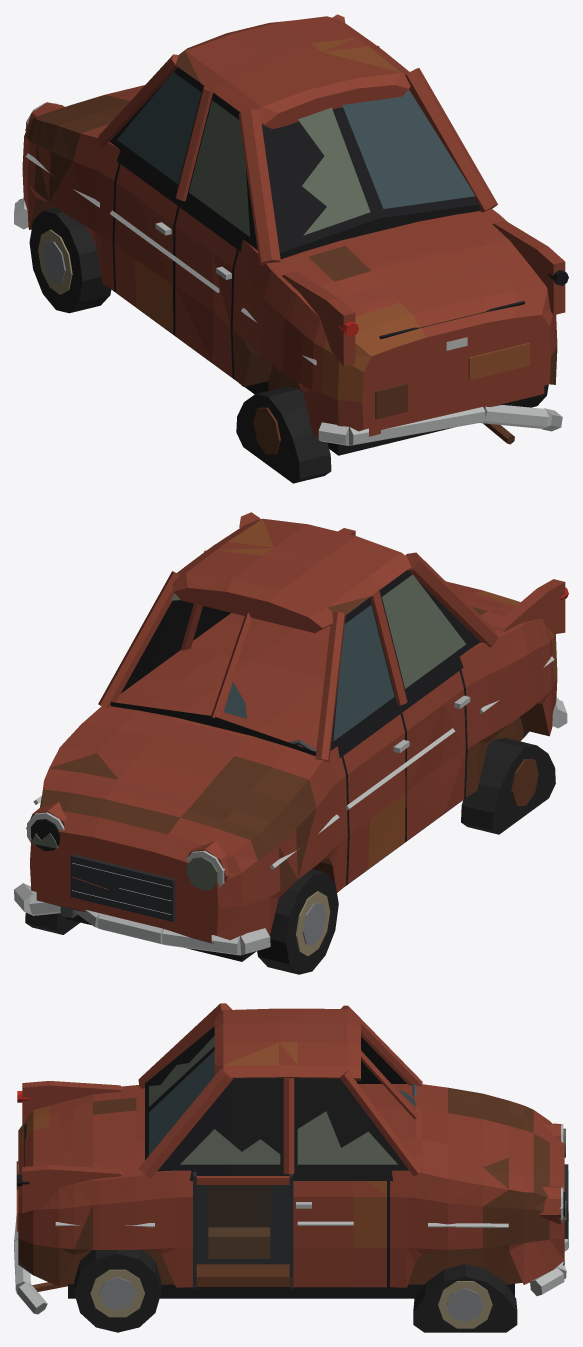
File: car_sedan_red.fbx
3 renders of one model, top to bottom at view 1: azimuth 30°, elevation 25°; view 2: azimuth 150°, elevation 25°; view 3: azimuth 270°, elevation 25°, orthographic. The views are drawn at different scales.
Parts seen in each view (by area): view 1: car_sedan_red; view 2: car_sedan_red; view 3: car_sedan_red.
Boxes of the visible parts, x1=… form: car_sedan_red: x1=14, y1=14, x2=568, y2=483; car_sedan_red: x1=14, y1=512, x2=568, y2=974; car_sedan_red: x1=14, y1=1003, x2=568, y2=1332.
Bounding box in the file's own units: 1.99 × 2.21 × 4.47.
